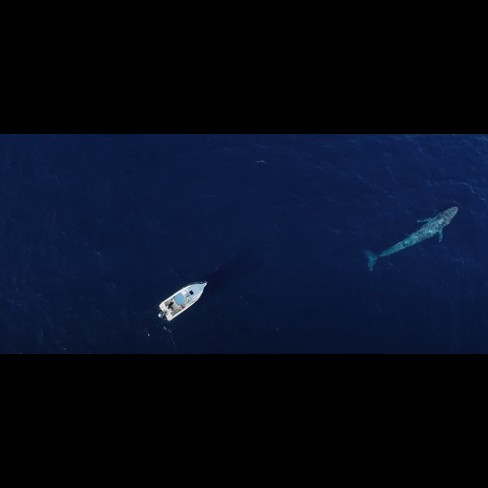bluewhale: (359, 204, 460, 276)
boat: (154, 278, 209, 324)
